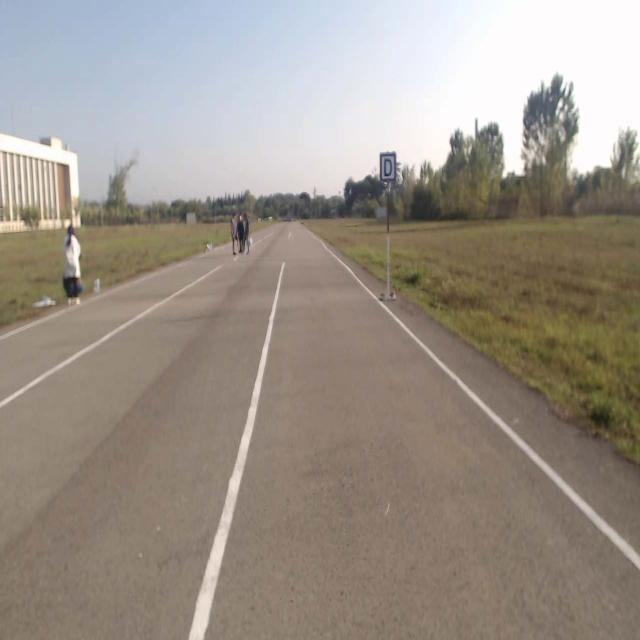durak: (379, 153, 395, 181)
